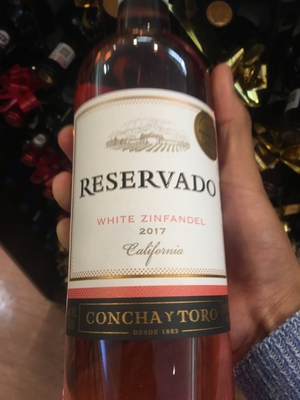reservado white zinfandel: (67, 10, 241, 377)
